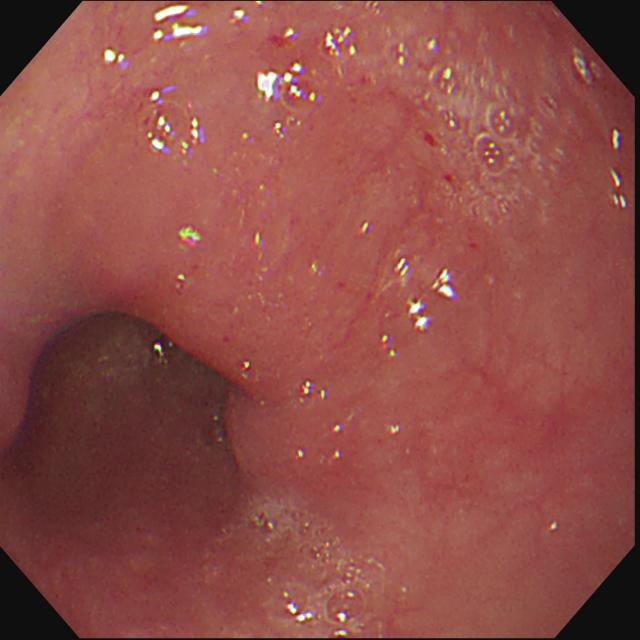E: (12, 303, 244, 483)
T: (390, 34, 541, 222), (246, 499, 374, 638), (142, 90, 200, 159)
U: (151, 3, 205, 43), (323, 26, 358, 63), (254, 68, 280, 105), (408, 298, 431, 335), (285, 61, 305, 101), (610, 170, 628, 210), (300, 382, 330, 406), (179, 223, 205, 250), (435, 268, 454, 303), (100, 47, 128, 70), (394, 257, 411, 284), (610, 127, 621, 151)
